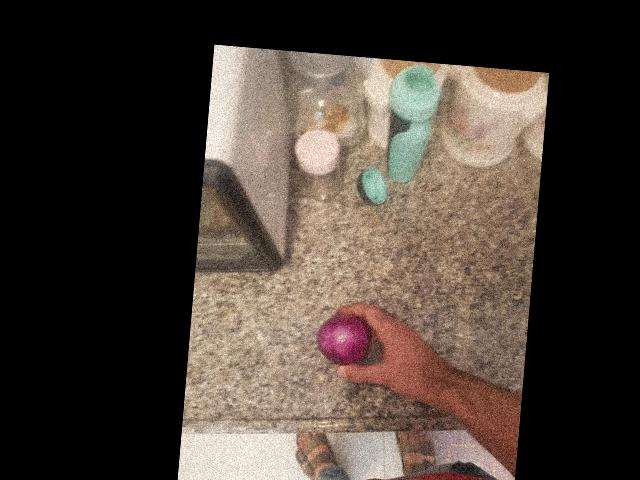onion: (219, 175, 281, 227)
